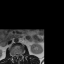CCS_normal: (16, 52, 18, 60)
LFS_stenosis: (19, 52, 21, 57)
LLS_stenosis: (18, 52, 19, 57)
RFS_stenosis: (13, 53, 15, 57)
RLS_stenosis: (15, 53, 16, 57)
